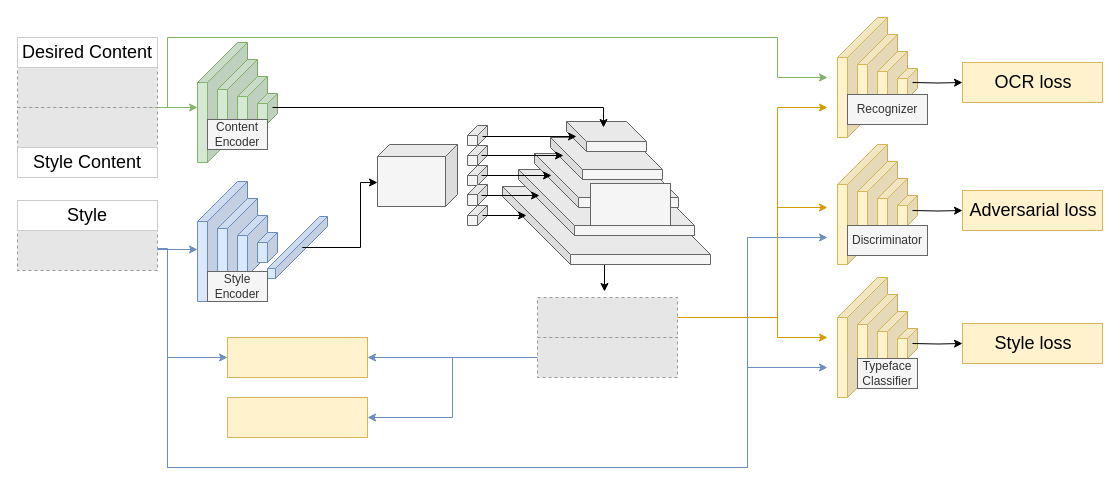
This 1120x493 diagram has some shape labels left out. Grey dashed boxes stand in for pictures. The shapes that lost their labels are listed below. From the top down, each one's centre as x and y in pixels, then its label:
the point at 417,175: Style Mapping Network
the point at 630,204: StyleGAN Generator
the point at 297,357: Recon. Loss
the point at 297,417: Cycle Loss
